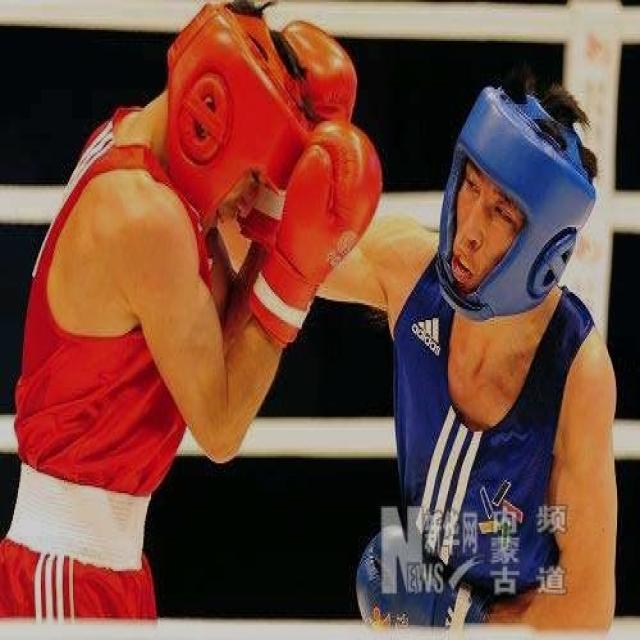fight: (1, 2, 620, 636)
